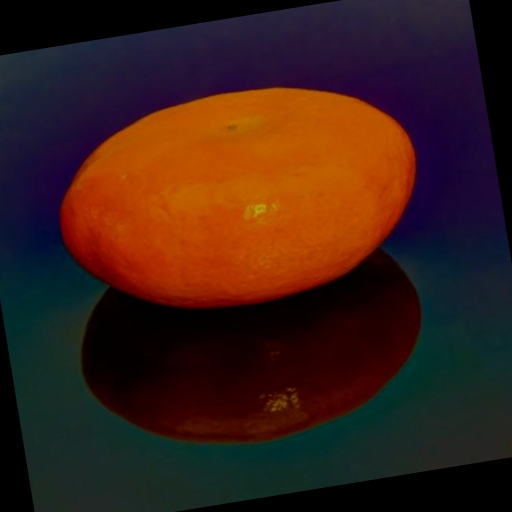fruit: (61, 88, 415, 307), (82, 251, 420, 442)
